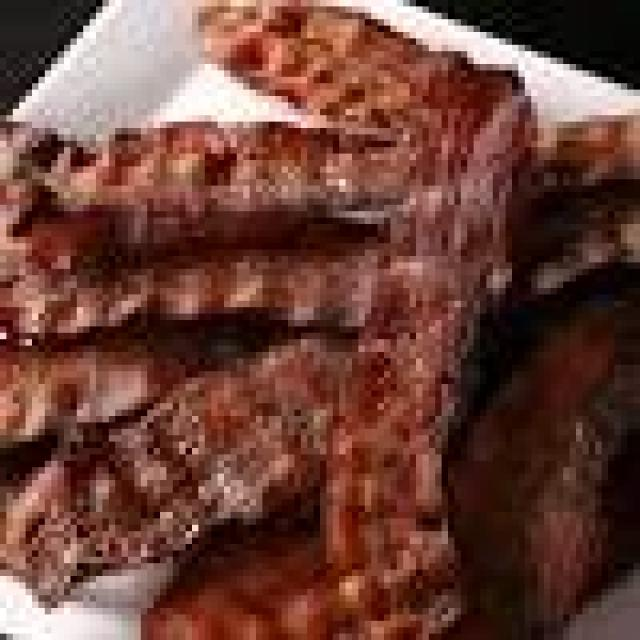Bacon: (206, 0, 532, 640)
